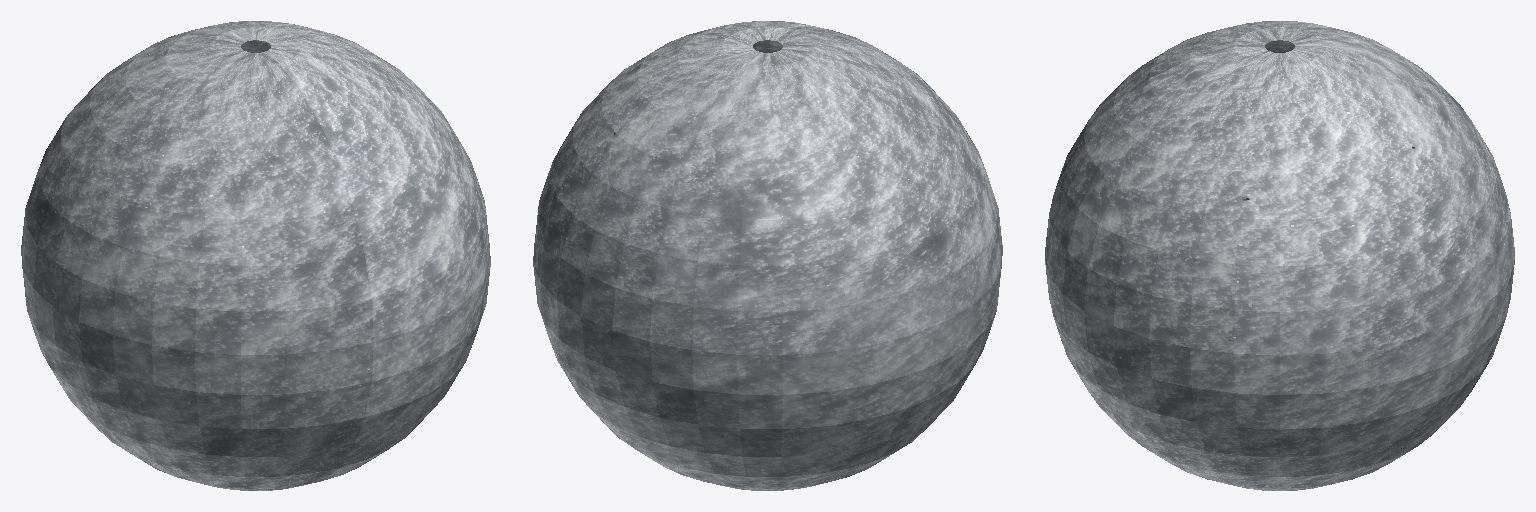
3 views of the same model, side by side, from view 1: azimuth 30°, elevation 25°; view 2: azimuth 150°, elevation 25°; view 3: azimuth 270°, elevation 25° (orthographic).
Visible parts, largest first — view 1: Sphere; view 2: Sphere; view 3: Sphere.
Part boxes in pixels (bbox=[...]): Sphere: bbox=[21, 21, 490, 490]; Sphere: bbox=[533, 21, 1002, 490]; Sphere: bbox=[1045, 21, 1514, 490].
Bounding box in the file's own units: 4 × 3.92 × 4.
Materials: 1 (1 with a texture image).